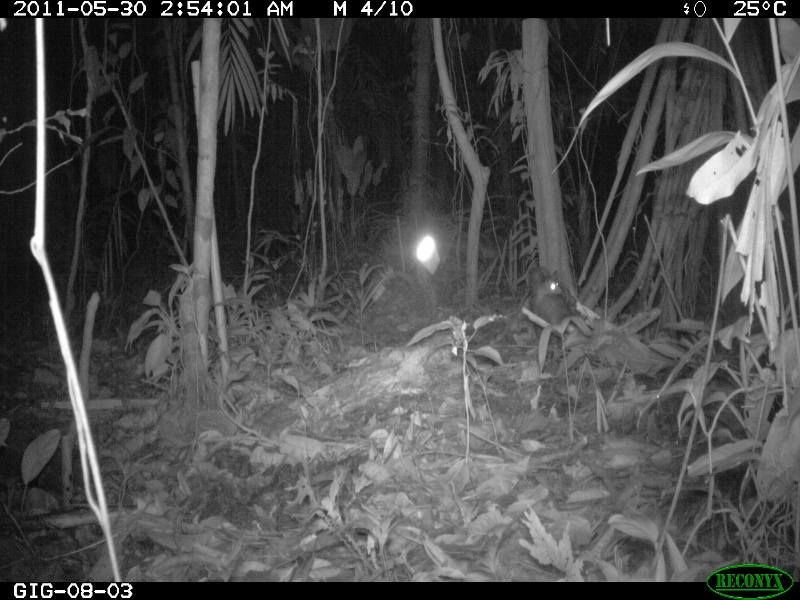opossum: (526, 277, 576, 353)
